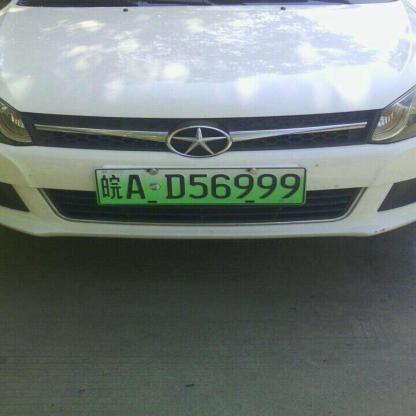lp: (93, 168, 304, 204)
